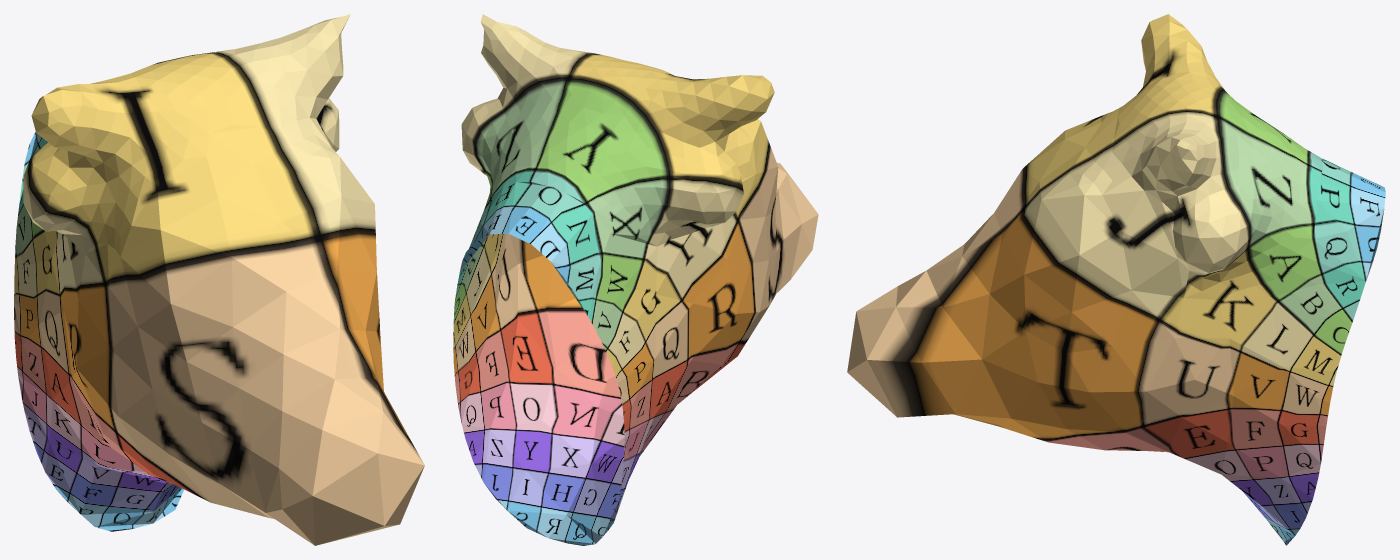
The model's file is cowhead_bff_in.obj.
3 renders of one model, left to right at view 1: azimuth 30°, elevation 25°; view 2: azimuth 150°, elevation 25°; view 3: azimuth 270°, elevation 25°, orthographic. The views are drawn at different scales.
Bounding box in the file's own units: 0.5029 × 0.7751 × 0.8311.
1 material, 1 textured.
